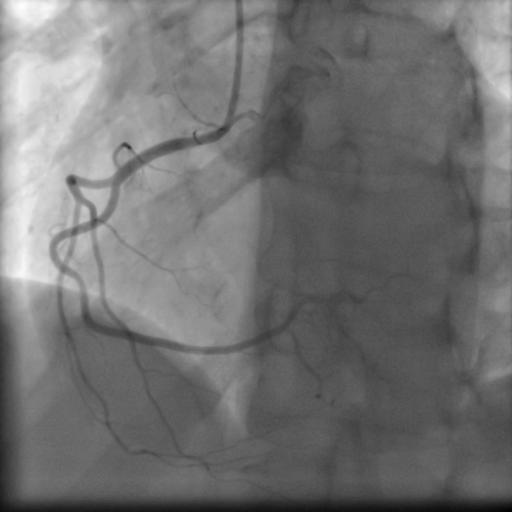Stenosis: (63, 260, 89, 304)
